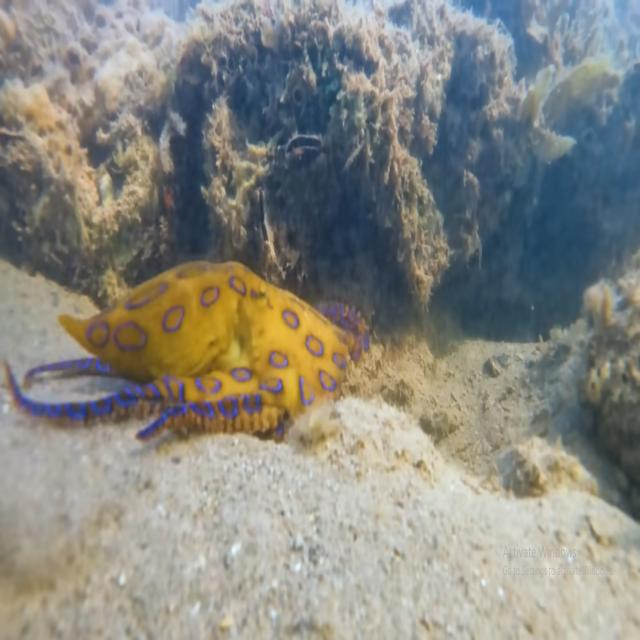blue_ringed_octopus: (0, 257, 371, 445)
